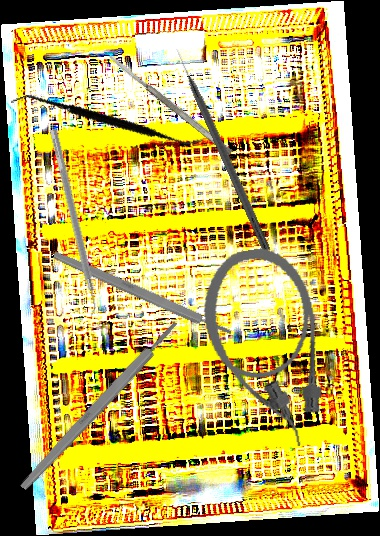Cannula: (194, 241, 337, 458)
Hook Surgical: (173, 46, 274, 253)
Scalpel Handle: (18, 318, 181, 493), (51, 249, 234, 339)
Spatula Surgical: (10, 49, 204, 193), (107, 52, 234, 157), (40, 128, 104, 319)
